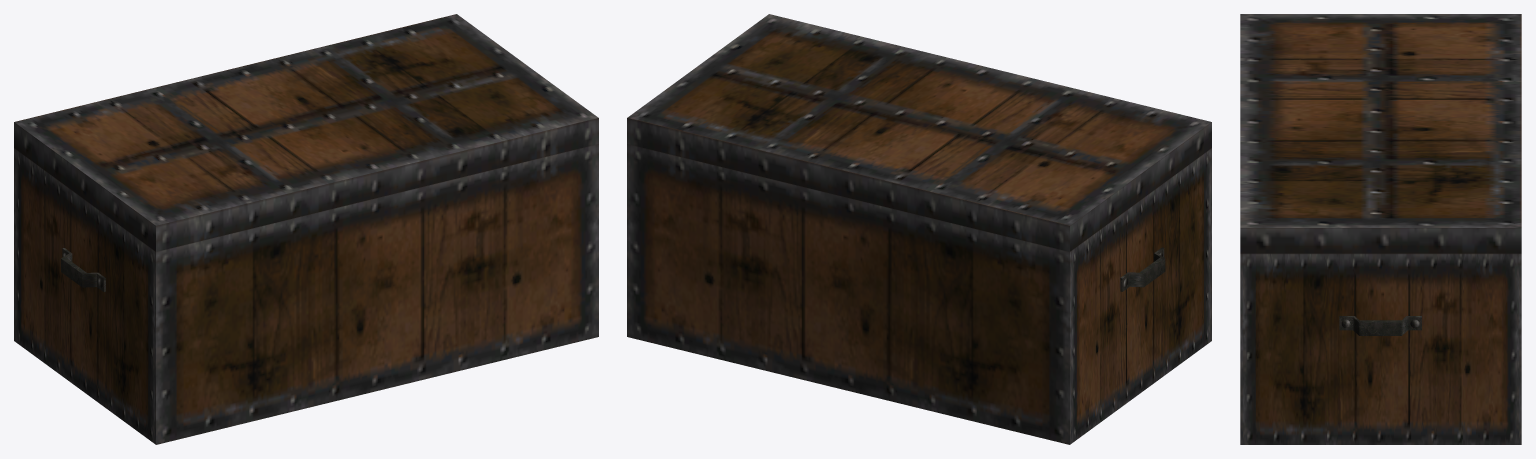
The model's file is Trunk02.glb.
The picture shows the model from 3 angles, left to right: view 1: azimuth 30°, elevation 25°; view 2: azimuth 150°, elevation 25°; view 3: azimuth 270°, elevation 25°; orthographic projection.
Visible parts, largest first — view 1: _Trunk02; view 2: _Trunk02; view 3: _Trunk02.
Boxes of the visible parts, bbox=[...] form: _Trunk02: bbox=[14, 14, 598, 444]; _Trunk02: bbox=[627, 14, 1211, 444]; _Trunk02: bbox=[1240, 14, 1521, 444].
Bounding box in the file's own units: 1.91 × 0.851 × 1.
1 material, 1 textured.
